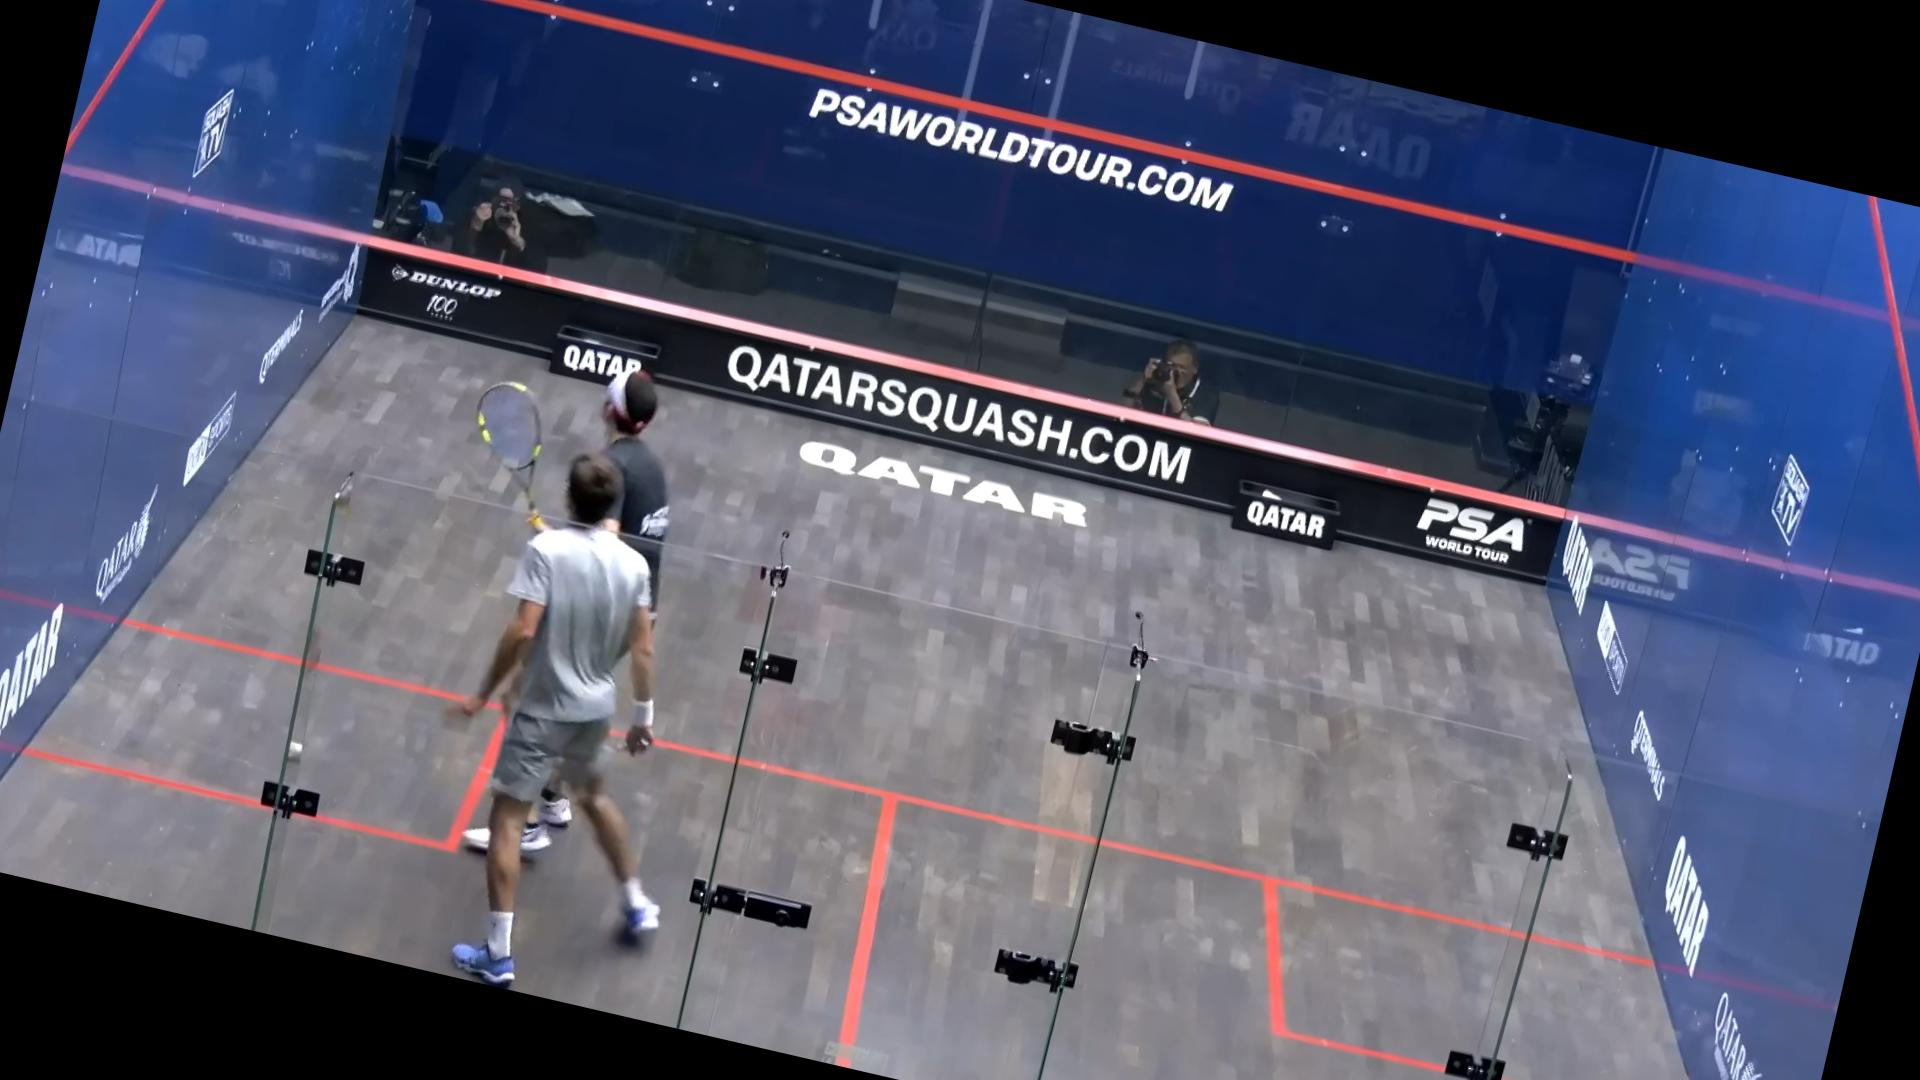Racket: (442, 368, 575, 530)
